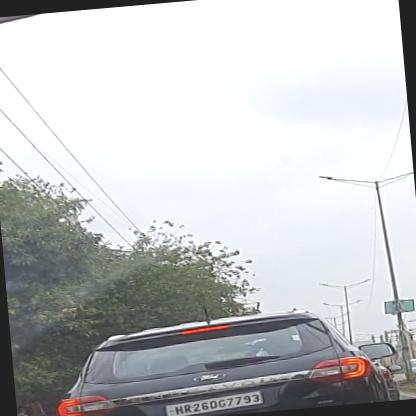car: (48, 301, 404, 415), (410, 357, 415, 379)
